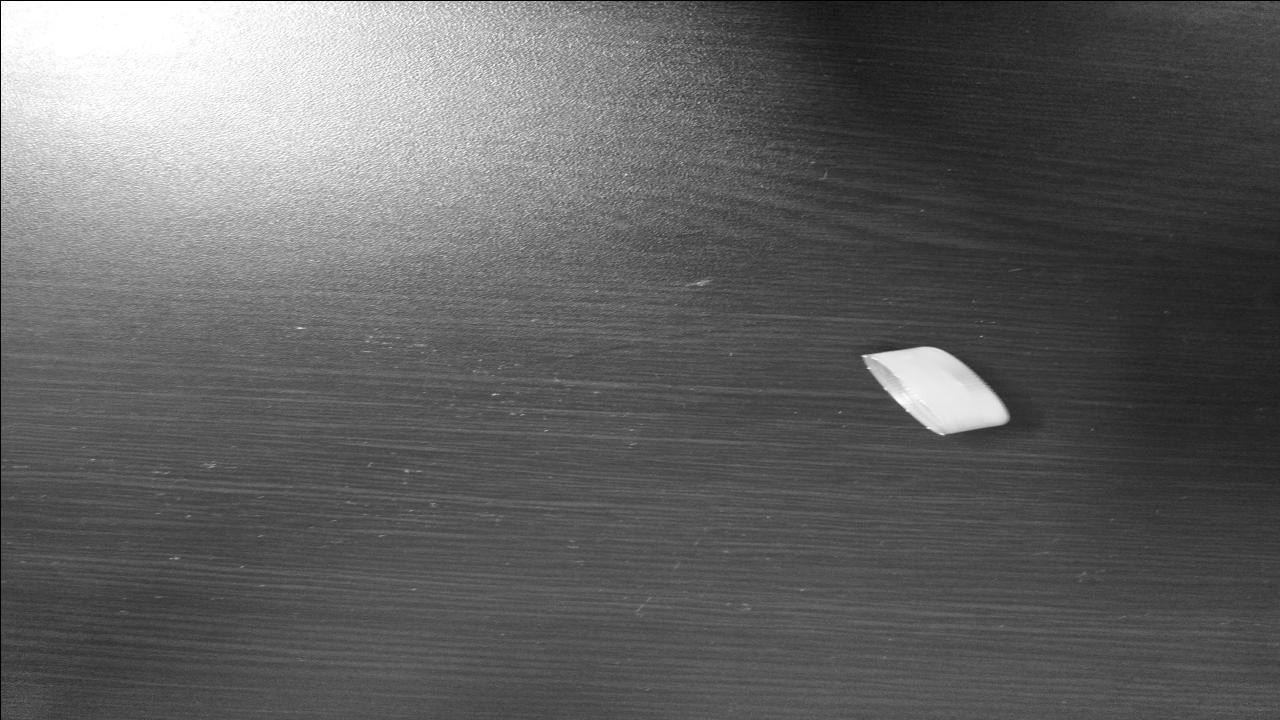bottle_cap: (854, 344, 1014, 434)
